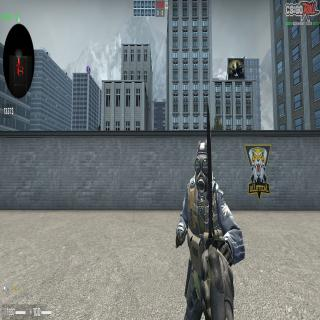CT-Body: (176, 139, 246, 320)
CT-Head: (194, 140, 212, 192)
